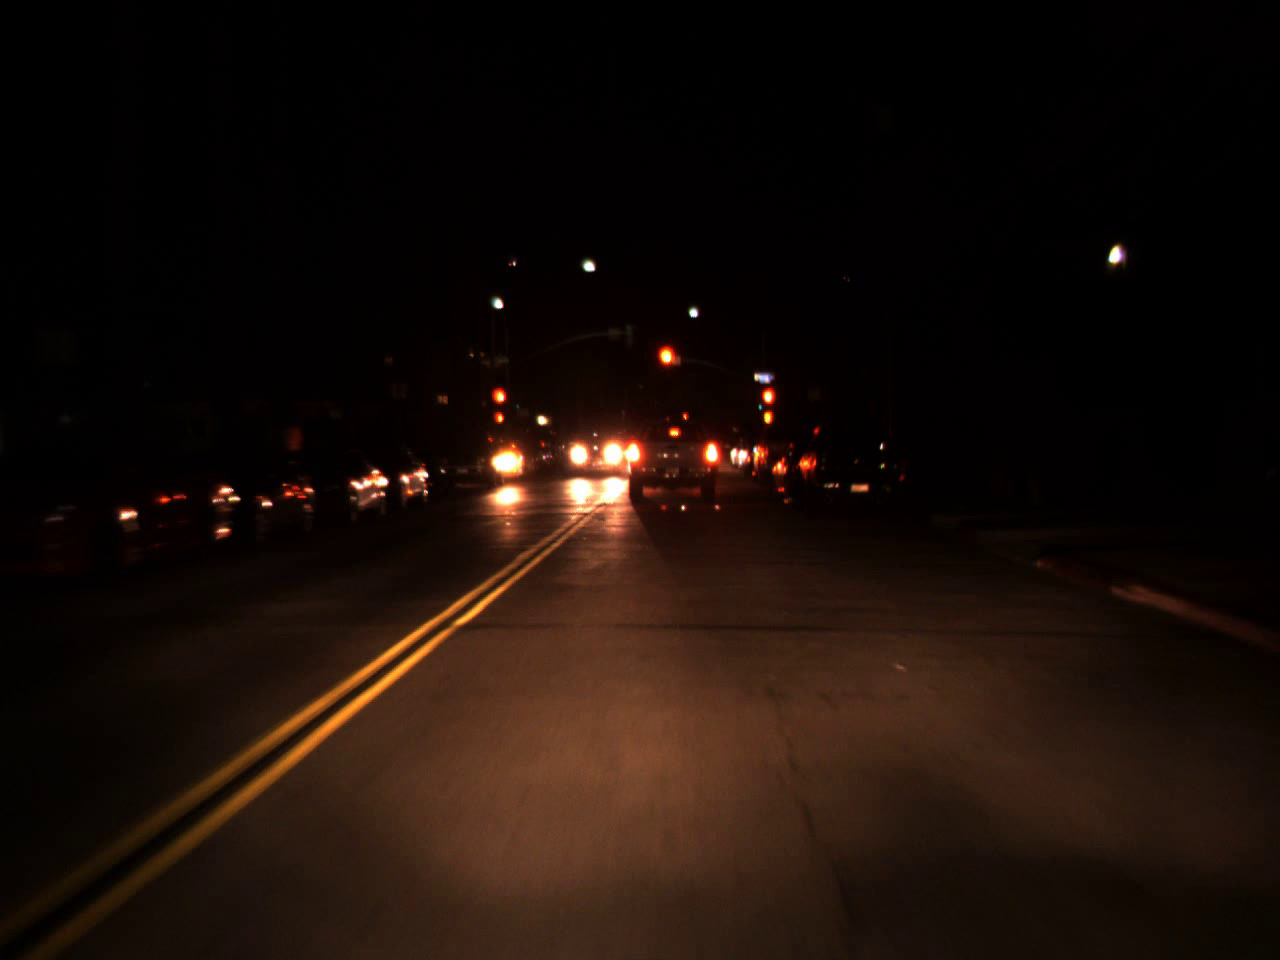stop: (655, 341, 679, 392), (759, 384, 777, 427), (491, 385, 509, 422)
